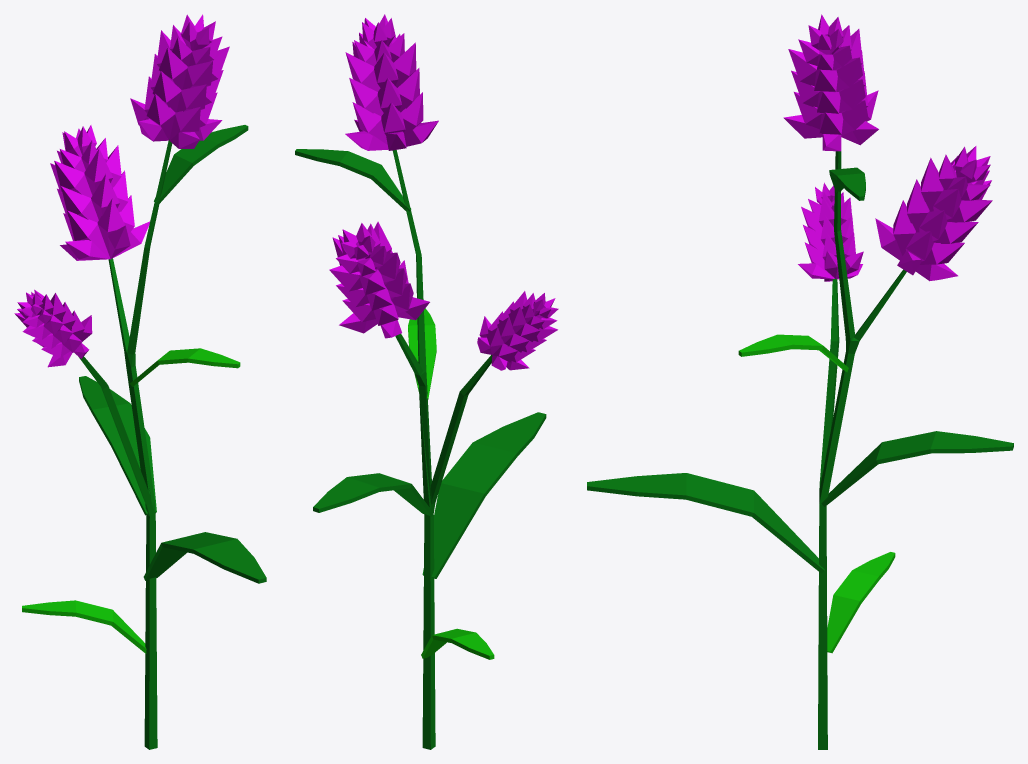
The model's file is Flower06_V2.fbx.
The picture shows the model from 3 angles, left to right: view 1: azimuth 30°, elevation 25°; view 2: azimuth 150°, elevation 25°; view 3: azimuth 270°, elevation 25°; orthographic projection. The views are drawn at different scales.
Parts seen in each view (by area): view 1: Cube.003; view 2: Cube.003; view 3: Cube.003.
Part boxes in pixels (box(x1,y1,x2,y2)): Cube.003: box(14, 14, 266, 749); Cube.003: box(295, 14, 558, 749); Cube.003: box(587, 14, 1013, 749).
Size of the model in its own units: 12.65 by 35.46 by 18.2.
